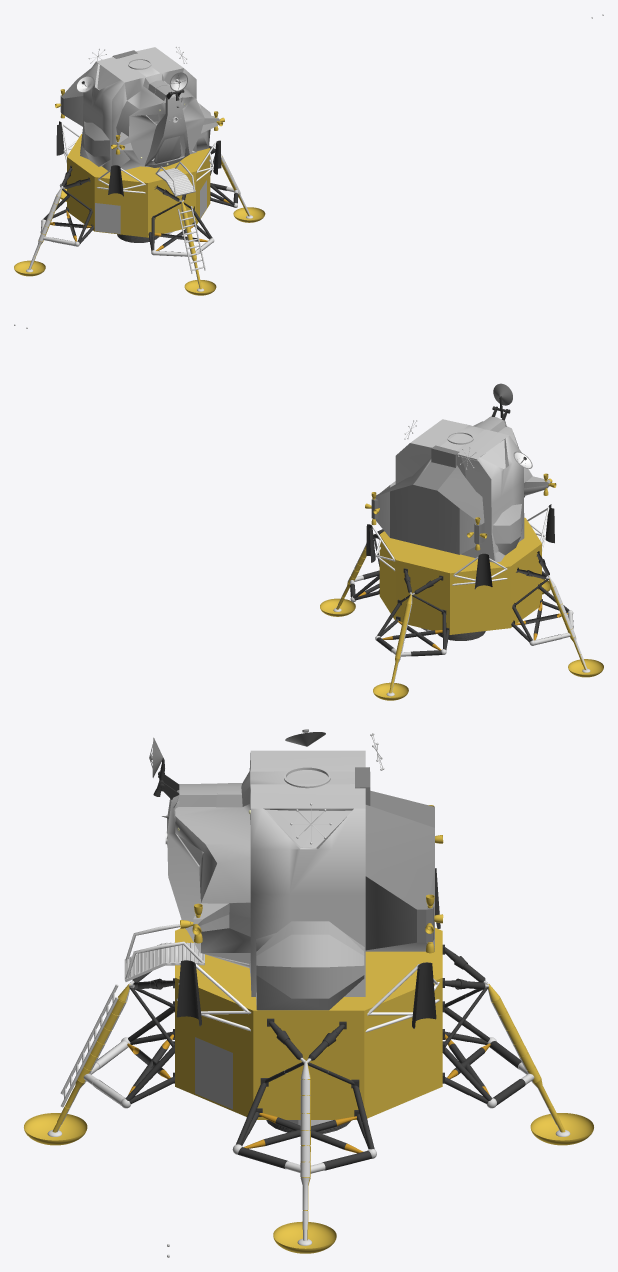
Rendered from interiortest.fbx.
3 views of the same model, one above another, from view 1: azimuth 30°, elevation 25°; view 2: azimuth 150°, elevation 25°; view 3: azimuth 270°, elevation 25° (orthographic). The views are drawn at different scales.
Parts seen in each view (by area): view 1: polySurfac, pCylinder1, group31 19, pCylinde10, group31 15, lunarlande, pPlane1, group31 16, pCube3, polySurfa1, pCube27, group31 g6; view 2: pCylinder1, polySurfac, lunarlande, group31 19, pCylinde10, group31 15, group31 16; view 3: polySurfac, pCylinder1, lunarlande, pCylinder9, group31 19, group31 15, group31 16, pPlane2, pCube3, group31 g7, group31 g8, group31 g6 (+10 smaller).
Part boxes in pixels (x1,y1,x2,y2): polySurfac: (80,47,219,172); pCylinder1: (67,134,210,237); group31 19: (14,188,265,295); pCylinde10: (80,121,110,166); group31 15: (28,154,250,288); lunarlande: (61,50,158,126); pPlane1: (95,203,120,233); group31 16: (31,155,248,289); pCube3: (155,168,195,196); polySurfa1: (177,206,205,273); pCube27: (153,136,181,163); group31 g6: (43,190,238,256); pCylinder1: (379,517,541,634); polySurfac: (395,416,550,562); lunarlande: (375,445,484,554); group31 19: (320,579,603,700); pCylinde10: (492,504,522,562); group31 15: (336,534,587,692); group31 16: (337,546,585,693); polySurfac: (166,750,365,996); pCylinder1: (175,928,442,1119); lunarlande: (355,767,434,951); pCylinder9: (256,921,364,1010); group31 19: (24,1113,593,1253); group31 15: (52,984,565,1240); group31 16: (53,986,564,1239); pPlane2: (195,1037,232,1109); pCube3: (124,942,204,981); group31 g7: (83,1073,534,1173); group31 g8: (128,1034,489,1153); group31 g6: (90,1041,527,1172).
Bounding box in the file's own units: 36.59 × 12.73 × 16.32.
